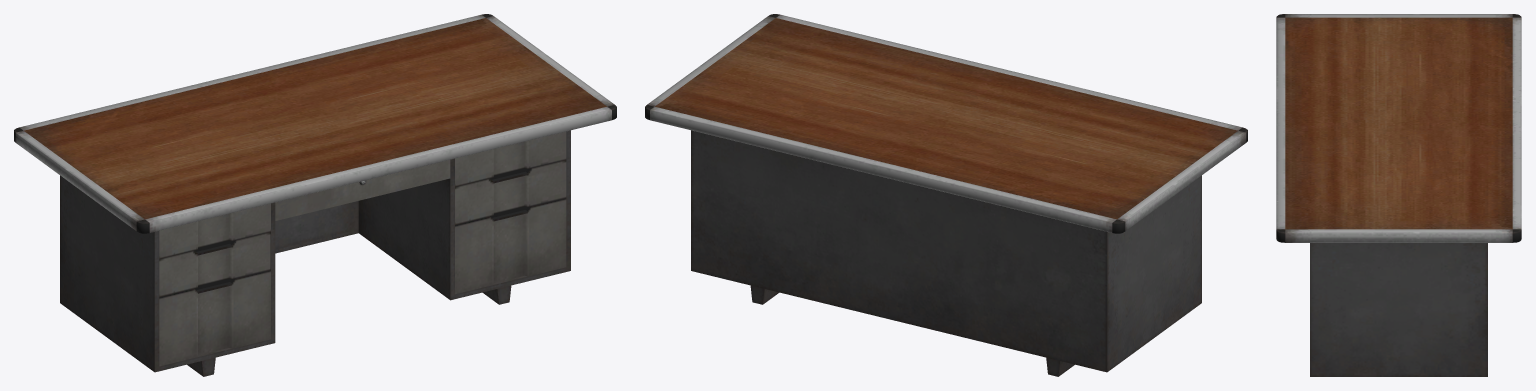
The model's file is 122_SteelDesk.fbx.
3 views of the same model, side by side, from view 1: azimuth 30°, elevation 25°; view 2: azimuth 150°, elevation 25°; view 3: azimuth 270°, elevation 25° (orthographic). The views are drawn at different scales.
Parts seen in each view (by area): view 1: LOD_1_Group_0_Sub_1__sm30_122_SteelDesk01A_A_Mat1, LOD_1_Group_6_Sub_1__sm30_122_SteelDesk01A_A_Mat1, LOD_1_Group_7_Sub_1__sm30_122_SteelDesk01A_A_Mat1, LOD_1_Group_5_Sub_1__sm30_122_SteelDesk01A_A_Mat1, LOD_1_Group_4_Sub_1__sm30_122_SteelDesk01A_A_Mat1, LOD_1_Group_2_Sub_1__sm30_122_SteelDesk01A_A_Mat1, LOD_1_Group_3_Sub_1__sm30_122_SteelDesk01A_A_Mat1, LOD_1_Group_1_Sub_1__sm30_122_SteelDesk01A_A_Mat1; view 2: LOD_1_Group_0_Sub_1__sm30_122_SteelDesk01A_A_Mat1; view 3: LOD_1_Group_0_Sub_1__sm30_122_SteelDesk01A_A_Mat1.
Boxes of the visible parts, <box> form: LOD_1_Group_0_Sub_1__sm30_122_SteelDesk01A_A_Mat1: <box>14,14,616,376</box>; LOD_1_Group_6_Sub_1__sm30_122_SteelDesk01A_A_Mat1: <box>159,270,270,366</box>; LOD_1_Group_7_Sub_1__sm30_122_SteelDesk01A_A_Mat1: <box>455,198,566,294</box>; LOD_1_Group_5_Sub_1__sm30_122_SteelDesk01A_A_Mat1: <box>455,160,566,224</box>; LOD_1_Group_4_Sub_1__sm30_122_SteelDesk01A_A_Mat1: <box>159,232,270,296</box>; LOD_1_Group_2_Sub_1__sm30_122_SteelDesk01A_A_Mat1: <box>275,160,450,220</box>; LOD_1_Group_3_Sub_1__sm30_122_SteelDesk01A_A_Mat1: <box>455,131,566,186</box>; LOD_1_Group_1_Sub_1__sm30_122_SteelDesk01A_A_Mat1: <box>159,203,270,258</box>; LOD_1_Group_0_Sub_1__sm30_122_SteelDesk01A_A_Mat1: <box>645,14,1247,376</box>; LOD_1_Group_0_Sub_1__sm30_122_SteelDesk01A_A_Mat1: <box>1276,14,1521,376</box>.
Bounding box in the file's own units: 2.18 × 0.8328 × 1.03.
